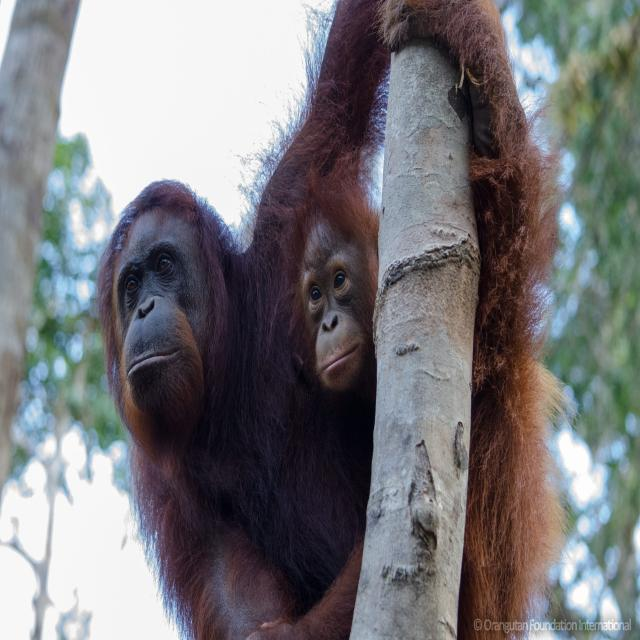Orangutan: (100, 176, 518, 640), (284, 187, 392, 575)
